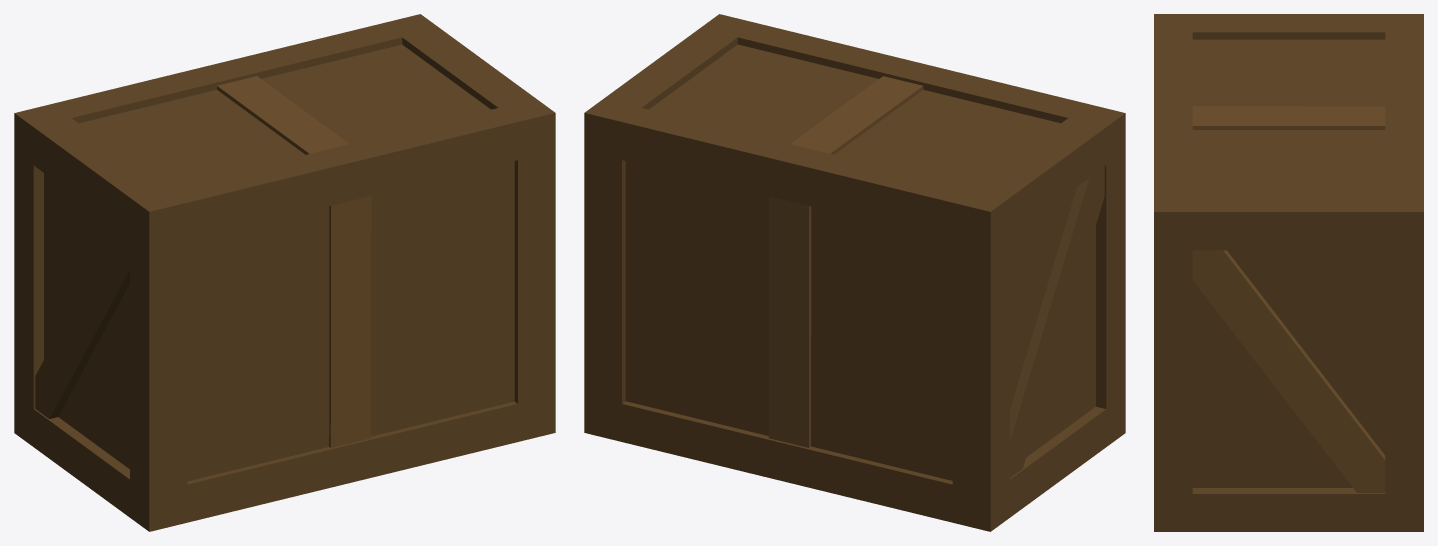
The model's file is WoodCrate_Large.fbx.
3 views of the same model, side by side, from view 1: azimuth 30°, elevation 25°; view 2: azimuth 150°, elevation 25°; view 3: azimuth 270°, elevation 25° (orthographic).
Visible parts, largest first — view 1: WoodCrate_Large; view 2: WoodCrate_Large; view 3: WoodCrate_Large.
Boxes of the visible parts, x1,y1,x2,y2 form: WoodCrate_Large: [14, 14, 555, 531]; WoodCrate_Large: [584, 14, 1125, 531]; WoodCrate_Large: [1154, 14, 1423, 531].
Bounding box in the file's own units: 141 × 106 × 81.08.
